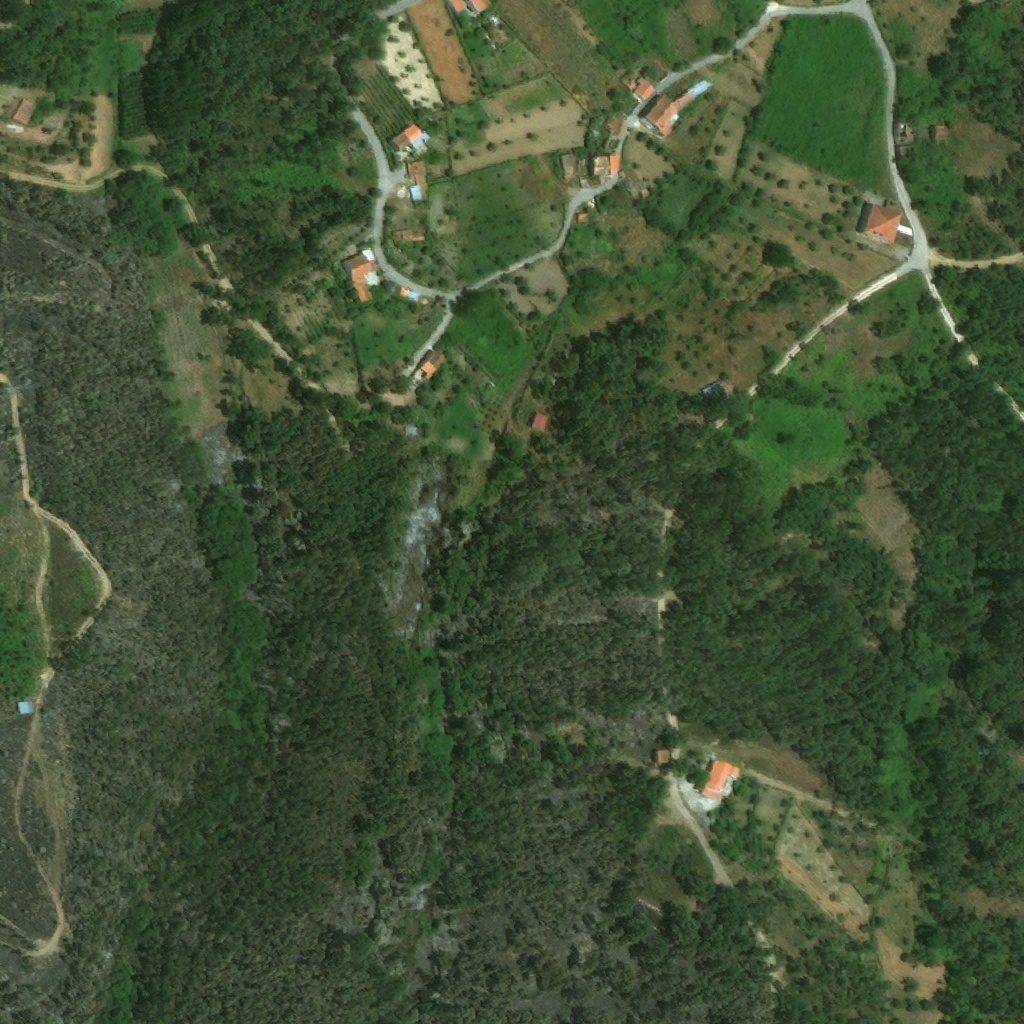0 no-damage: (560, 114, 626, 185), (641, 88, 697, 138), (341, 247, 382, 301), (386, 122, 433, 165), (701, 758, 739, 799), (863, 204, 901, 244), (619, 68, 656, 102), (412, 351, 447, 386), (408, 157, 430, 210), (11, 97, 35, 123), (393, 229, 426, 242), (531, 414, 546, 431), (18, 699, 31, 714), (654, 749, 667, 762), (576, 213, 589, 223), (399, 286, 410, 297)
4 un-classified: (448, 0, 493, 14)
